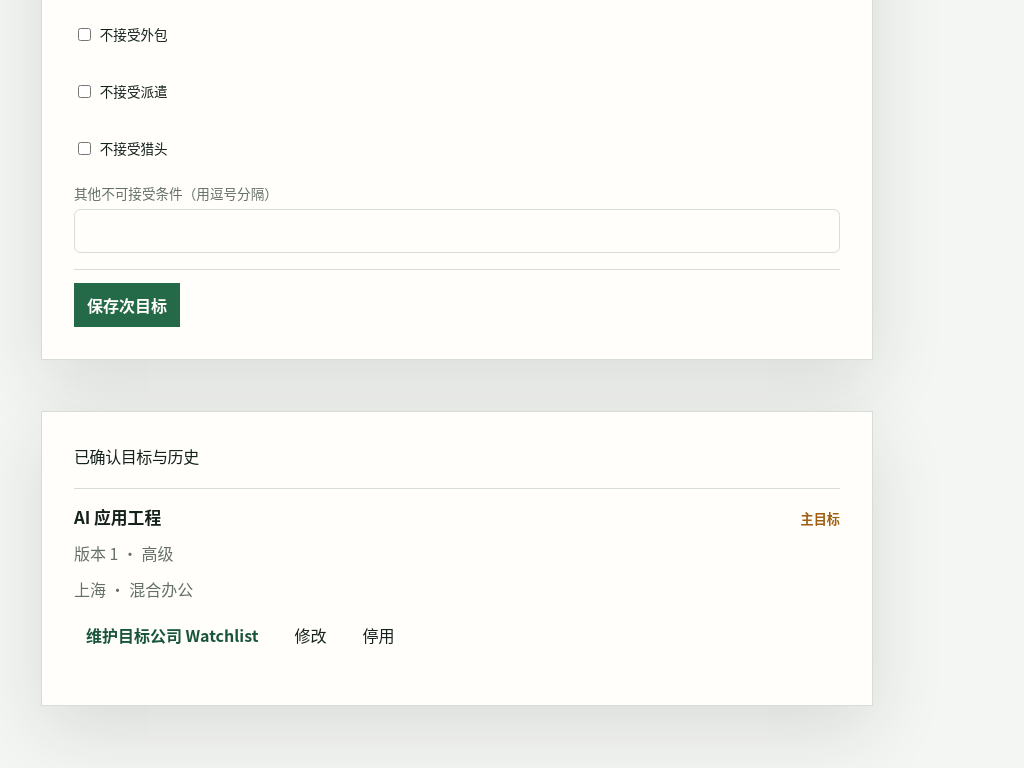
Test: keeps the prior target visible and explains an optimistic-lock conflict without exposing response internals
The width and height of the screenshot is (1024, 768).
(page scrolled)
Click the button with aria-label "修改 AI 应用工程": [310, 635] box x1=282 y1=613 x2=338 y2=657
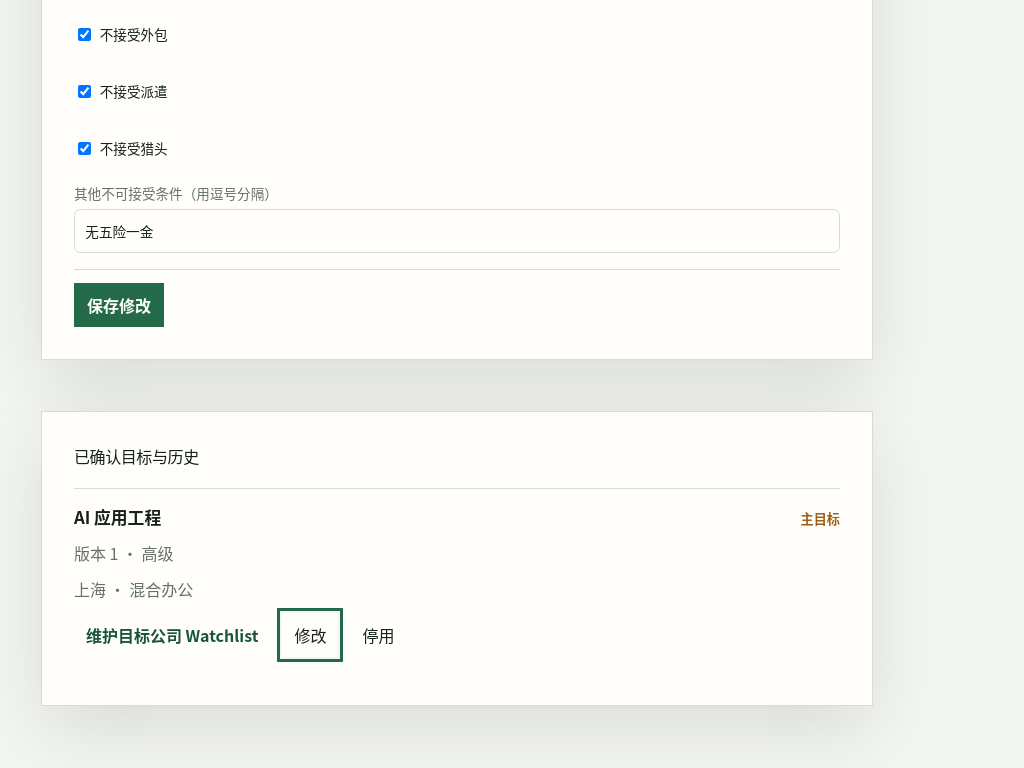
Click the button "保存修改": [119, 305] box x1=74 y1=283 x2=164 y2=327
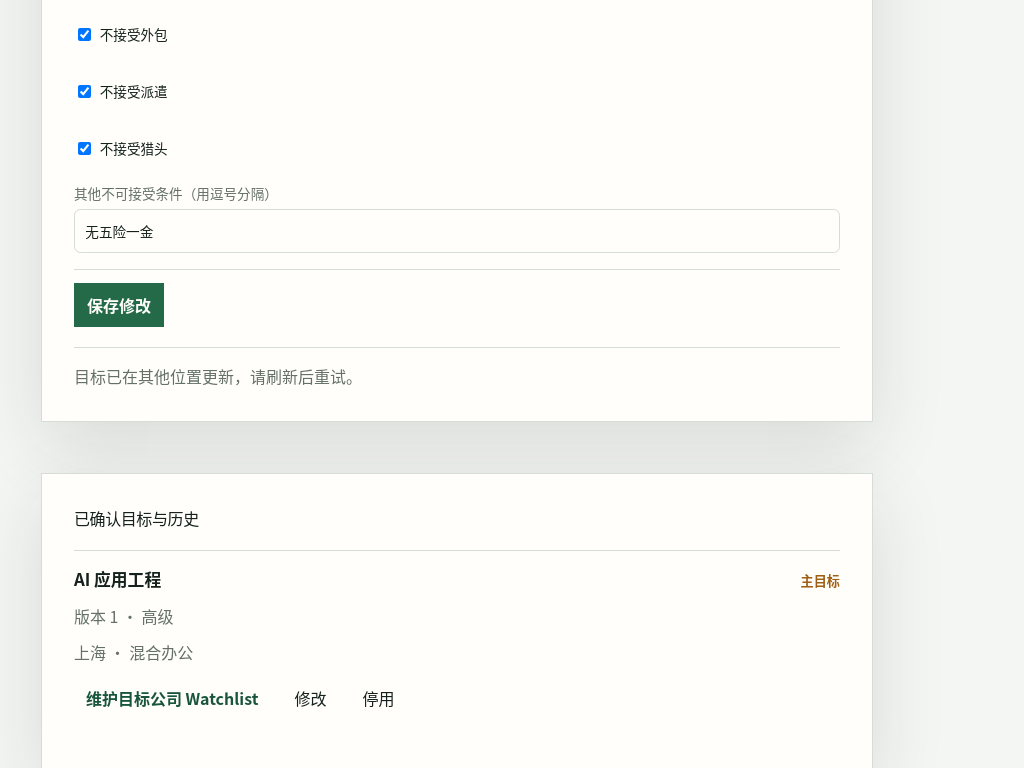
Check: the text "AI 应用工程" is shown, box x1=74 y1=567 x2=161 y2=593
Check: the message reads "目标已在其他位置更新，请刷新后重试。", box x1=74 y1=364 x2=362 y2=388
